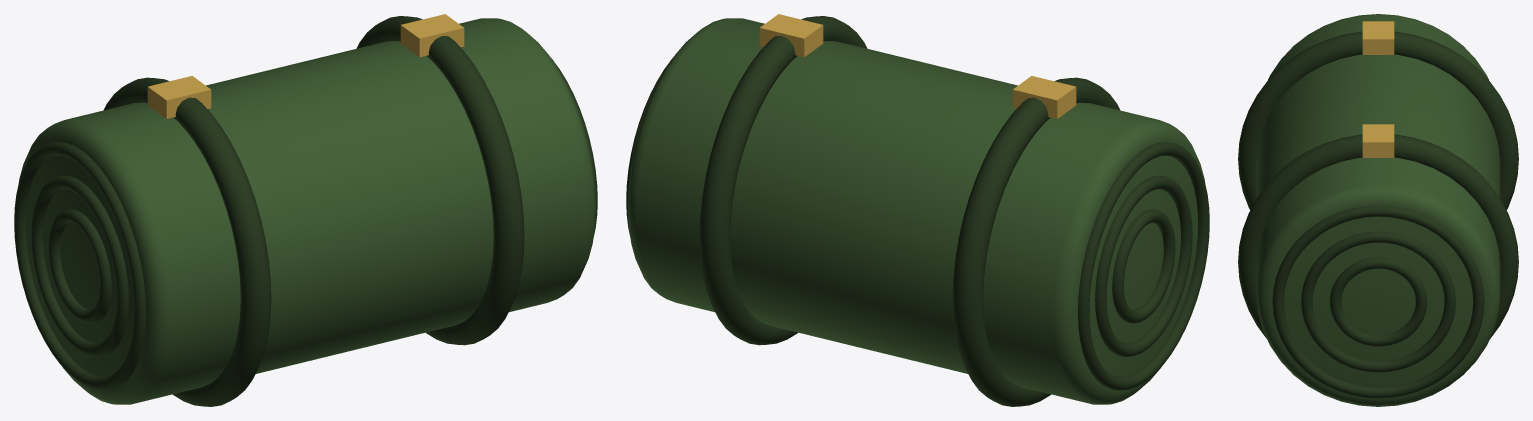
Rendered from leder_gehaertet.glb.
3 renders of one model, left to right at view 1: azimuth 30°, elevation 25°; view 2: azimuth 150°, elevation 25°; view 3: azimuth 270°, elevation 25°, orthographic. The views are drawn at different scales.
Visible parts, largest first — view 1: Cylinder, Torus.006, Torus.007, Torus, Torus.001, Torus.002, Cube.001, Cube; view 2: Cylinder, Torus.006, Torus.007, Torus, Torus.001, Torus.002, Cube.001, Cube; view 3: Cylinder, Torus.007, Torus.006, Torus.003, Torus.004, Torus.005, Cube, Cube.001.
Boxes of the visible parts, bbox=[...] form: Cylinder: bbox=[18, 18, 595, 404]; Torus.006: bbox=[103, 77, 271, 406]; Torus.007: bbox=[356, 16, 524, 345]; Torus: bbox=[14, 142, 145, 390]; Torus.001: bbox=[31, 175, 128, 356]; Torus.002: bbox=[48, 209, 111, 323]; Cube.001: bbox=[400, 14, 464, 57]; Cube: bbox=[147, 76, 211, 118]; Cylinder: bbox=[628, 18, 1205, 404]; Torus.006: bbox=[952, 77, 1120, 406]; Torus.007: bbox=[699, 16, 867, 345]; Torus: bbox=[1078, 142, 1209, 390]; Torus.001: bbox=[1095, 175, 1192, 356]; Torus.002: bbox=[1112, 209, 1175, 323]; Cube.001: bbox=[759, 14, 823, 57]; Cube: bbox=[1012, 76, 1076, 118]; Cylinder: bbox=[1256, 14, 1500, 406]; Torus.007: bbox=[1238, 134, 1518, 338]; Torus.006: bbox=[1238, 31, 1518, 209]; Torus.003: bbox=[1272, 205, 1484, 398]; Torus.004: bbox=[1301, 231, 1455, 372]; Torus.005: bbox=[1329, 257, 1427, 346]; Cube: bbox=[1362, 21, 1394, 54]; Cube.001: bbox=[1362, 124, 1394, 157].
Bounding box in the file's own units: 0.31 × 0.197 × 0.196.
